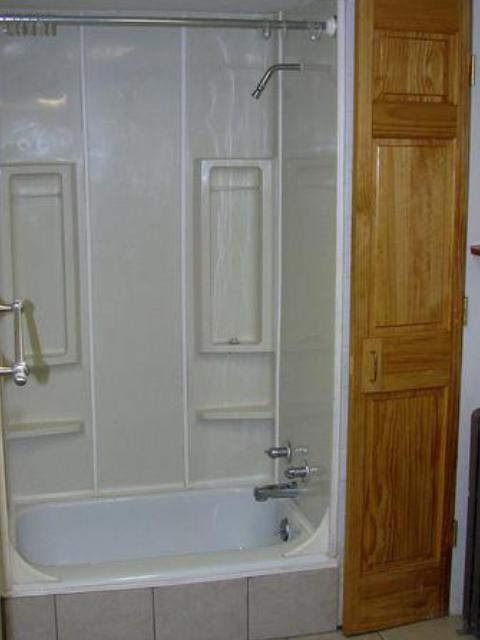Ducha: (238, 27, 337, 559)
